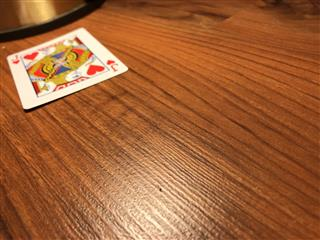JackOfHearts: (6, 26, 128, 109)
